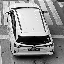motor: (14, 6, 48, 55)
